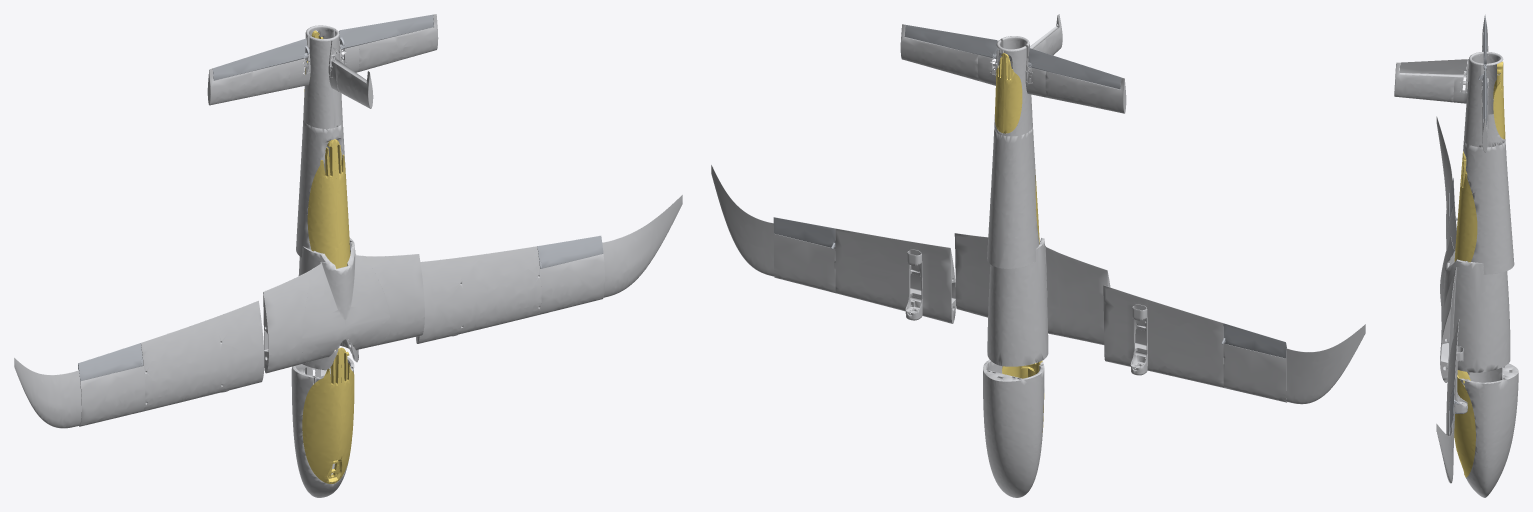
File: orca.glb
3 views of the same model, side by side, from view 1: azimuth 30°, elevation 25°; view 2: azimuth 150°, elevation 25°; view 3: azimuth 270°, elevation 25° (orthographic). The views are drawn at different scales.
Parts seen in each view (by area): view 1: part_169, starboard_1_2, port_1_2, front_cover2, port_4, starboard_3_1, port_3_1, starboard_4, mid_cover_1, aft_fuselage, part_76, part_18 (+10 smaller); view 2: part_169, starboard_1_2, port_1_2, part_76, aft_fuselage, starboard_4, starboard_3_1, port_3_1, port_4, tail_starboard, tail_port, part_234 (+6 smaller); view 3: part_169, part_76, aft_fuselage, part_234, mid_cover2, tail_vertical, front_cover1, part_14, port_1_2, tail_cover_1, part_33, port_4 (+8 smaller).
Part boxes in pixels (x1=…): part_169: x1=263, y1=238, x2=424, y2=373; starboard_1_2: x1=141, y1=300, x2=264, y2=411; port_1_2: x1=416, y1=246, x2=541, y2=343; front_cover2: x1=302, y1=348, x2=341, y2=483; port_4: x1=600, y1=195, x2=682, y2=297; starboard_3_1: x1=79, y1=366, x2=145, y2=426; port_3_1: x1=539, y1=254, x2=605, y2=314; starboard_4: x1=14, y1=358, x2=85, y2=428; mid_cover_1: x1=307, y1=139, x2=339, y2=268; aft_fuselage: x1=296, y1=120, x2=345, y2=257; part_76: x1=291, y1=357, x2=354, y2=497; part_18: x1=303, y1=34, x2=334, y2=128; part_169: x1=954, y1=233, x2=1110, y2=366; starboard_1_2: x1=1103, y1=285, x2=1225, y2=387; port_1_2: x1=835, y1=228, x2=955, y2=323; part_76: x1=983, y1=359, x2=1044, y2=497; aft_fuselage: x1=987, y1=127, x2=1039, y2=268; starboard_4: x1=1286, y1=324, x2=1365, y2=404; starboard_3_1: x1=1223, y1=344, x2=1287, y2=402; port_3_1: x1=774, y1=233, x2=835, y2=293; port_4: x1=711, y1=164, x2=774, y2=276; tail_starboard: x1=1045, y1=71, x2=1126, y2=113; tail_port: x1=900, y1=24, x2=978, y2=80; part_234: x1=977, y1=36, x2=1046, y2=135; part_169: x1=1440, y1=236, x2=1510, y2=382; part_76: x1=1459, y1=363, x2=1518, y2=497; aft_fuselage: x1=1463, y1=141, x2=1514, y2=274; part_234: x1=1453, y1=51, x2=1505, y2=147; mid_cover2: x1=1454, y1=151, x2=1477, y2=262; tail_vertical: x1=1394, y1=62, x2=1454, y2=102; front_cover1: x1=1454, y1=375, x2=1475, y2=477; part_14: x1=1399, y1=59, x2=1467, y2=77; port_1_2: x1=1446, y1=319, x2=1467, y2=437; tail_cover_1: x1=1493, y1=62, x2=1505, y2=139; part_33: x1=1472, y1=55, x2=1499, y2=114; port_4: x1=1436, y1=424, x2=1453, y2=483.
Size of the model in its own units: 1846 by 1227 by 316.
